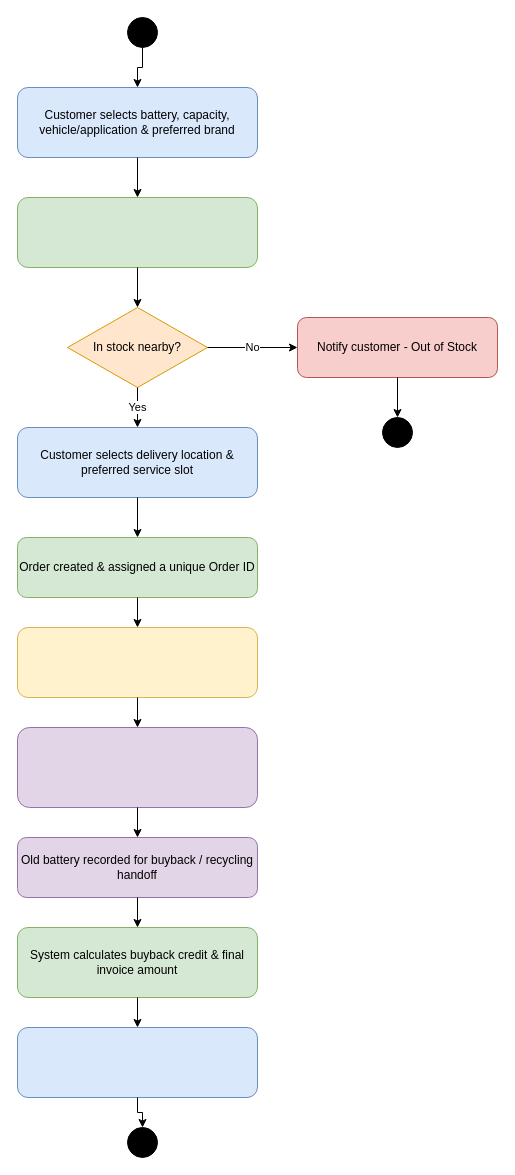
Some shapes in this 515 by 1175 pixel diagram are drawn without their labels. The shapes that lost their labels are listed below. From the top down, each one's box as (x1, y1, x2, y2) in pixels, then its label:
(16, 196, 258, 268): System validates request & checks inventory availability
(16, 626, 258, 698): Operations dashboard assigns order to delivery/installation agent
(16, 726, 258, 808): Agent verifies/collects old battery, delivers & installs new battery
(16, 1026, 258, 1098): Order marked Completed; customer notified with final status & invoice
